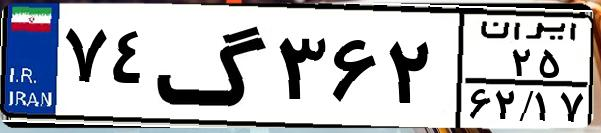1: (535, 70, 560, 125)
2: (385, 28, 445, 110), (508, 27, 537, 80), (495, 70, 520, 125)
3: (270, 28, 330, 110)
4: (110, 28, 156, 98)
5: (537, 27, 568, 80)
6: (330, 28, 385, 110), (470, 70, 495, 125)
7: (57, 26, 110, 100), (560, 70, 590, 125)
گ: (156, 12, 270, 120)
